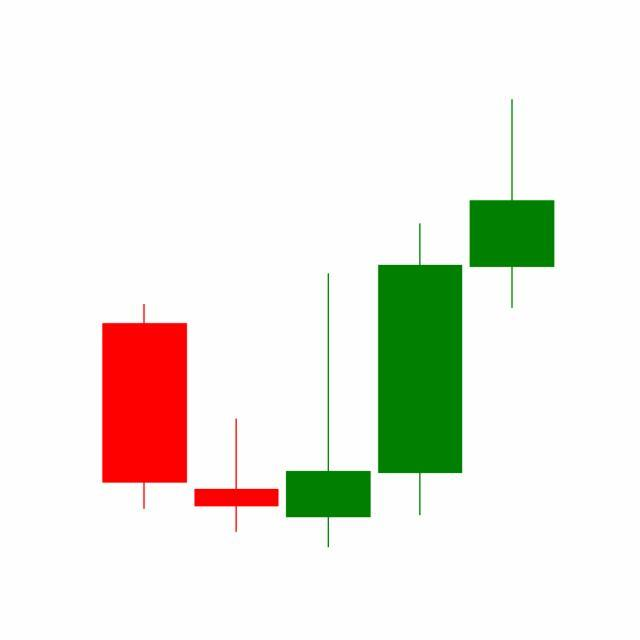Three Outside Up-Down: (190, 220, 467, 549)
